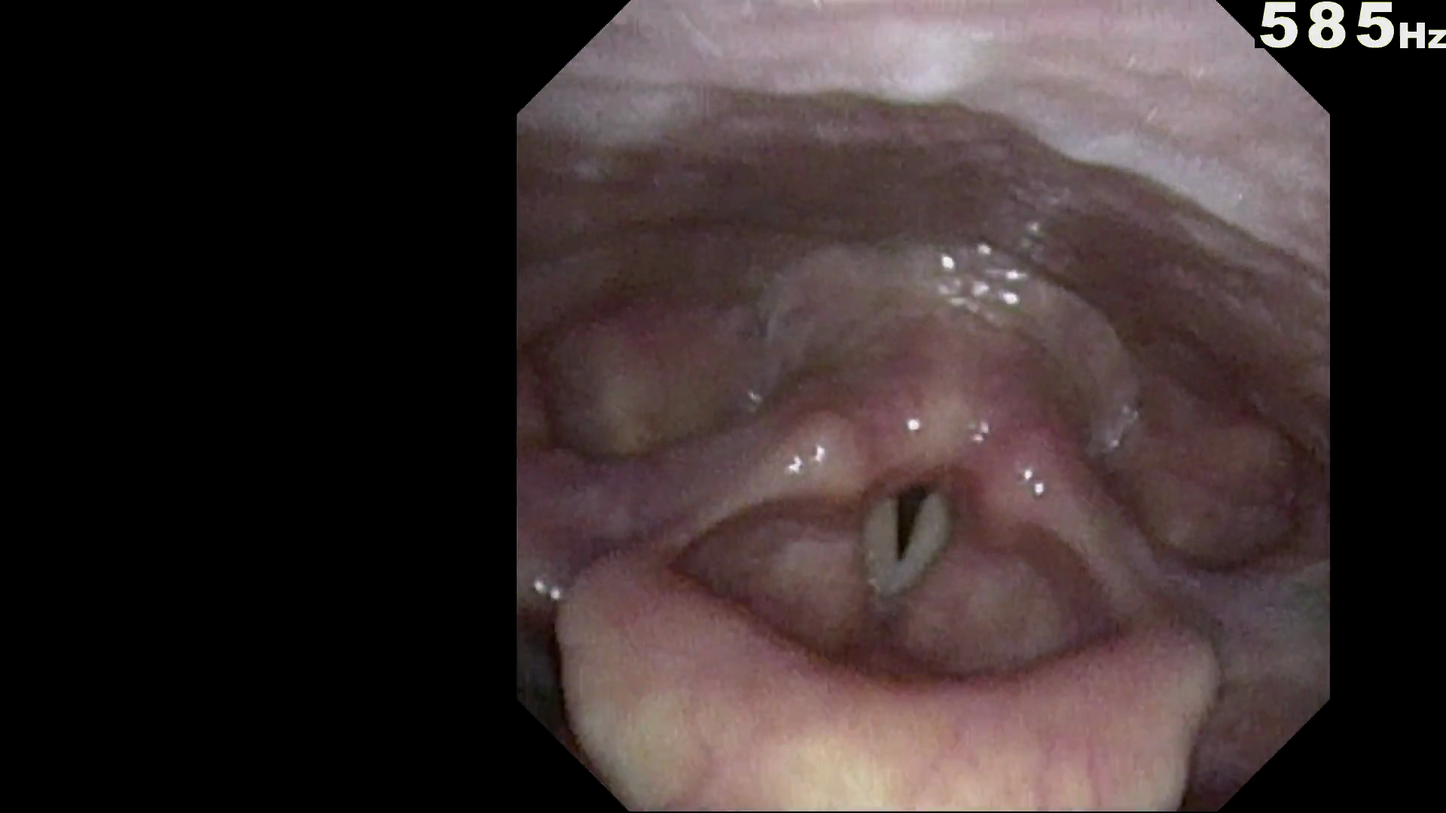epiglottis: (602, 504, 1233, 784)
trachea: (865, 462, 967, 591)
